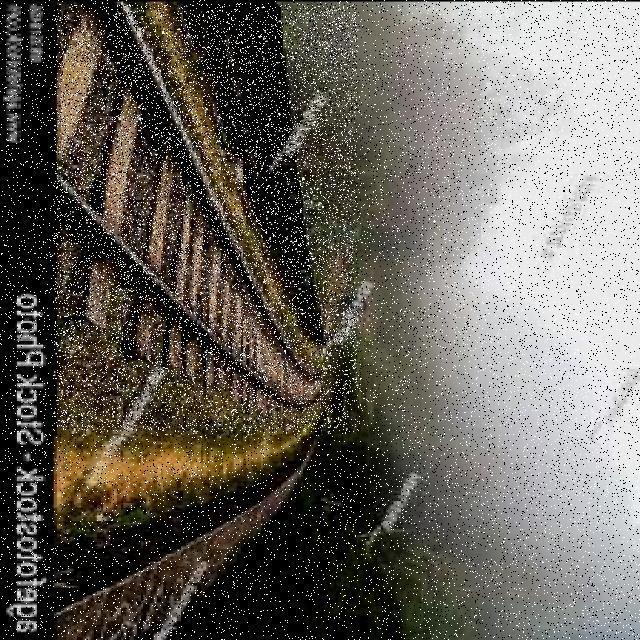rail: (55, 5, 358, 433)
